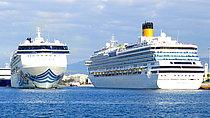Ship: (83, 20, 208, 94), (8, 25, 75, 93)
